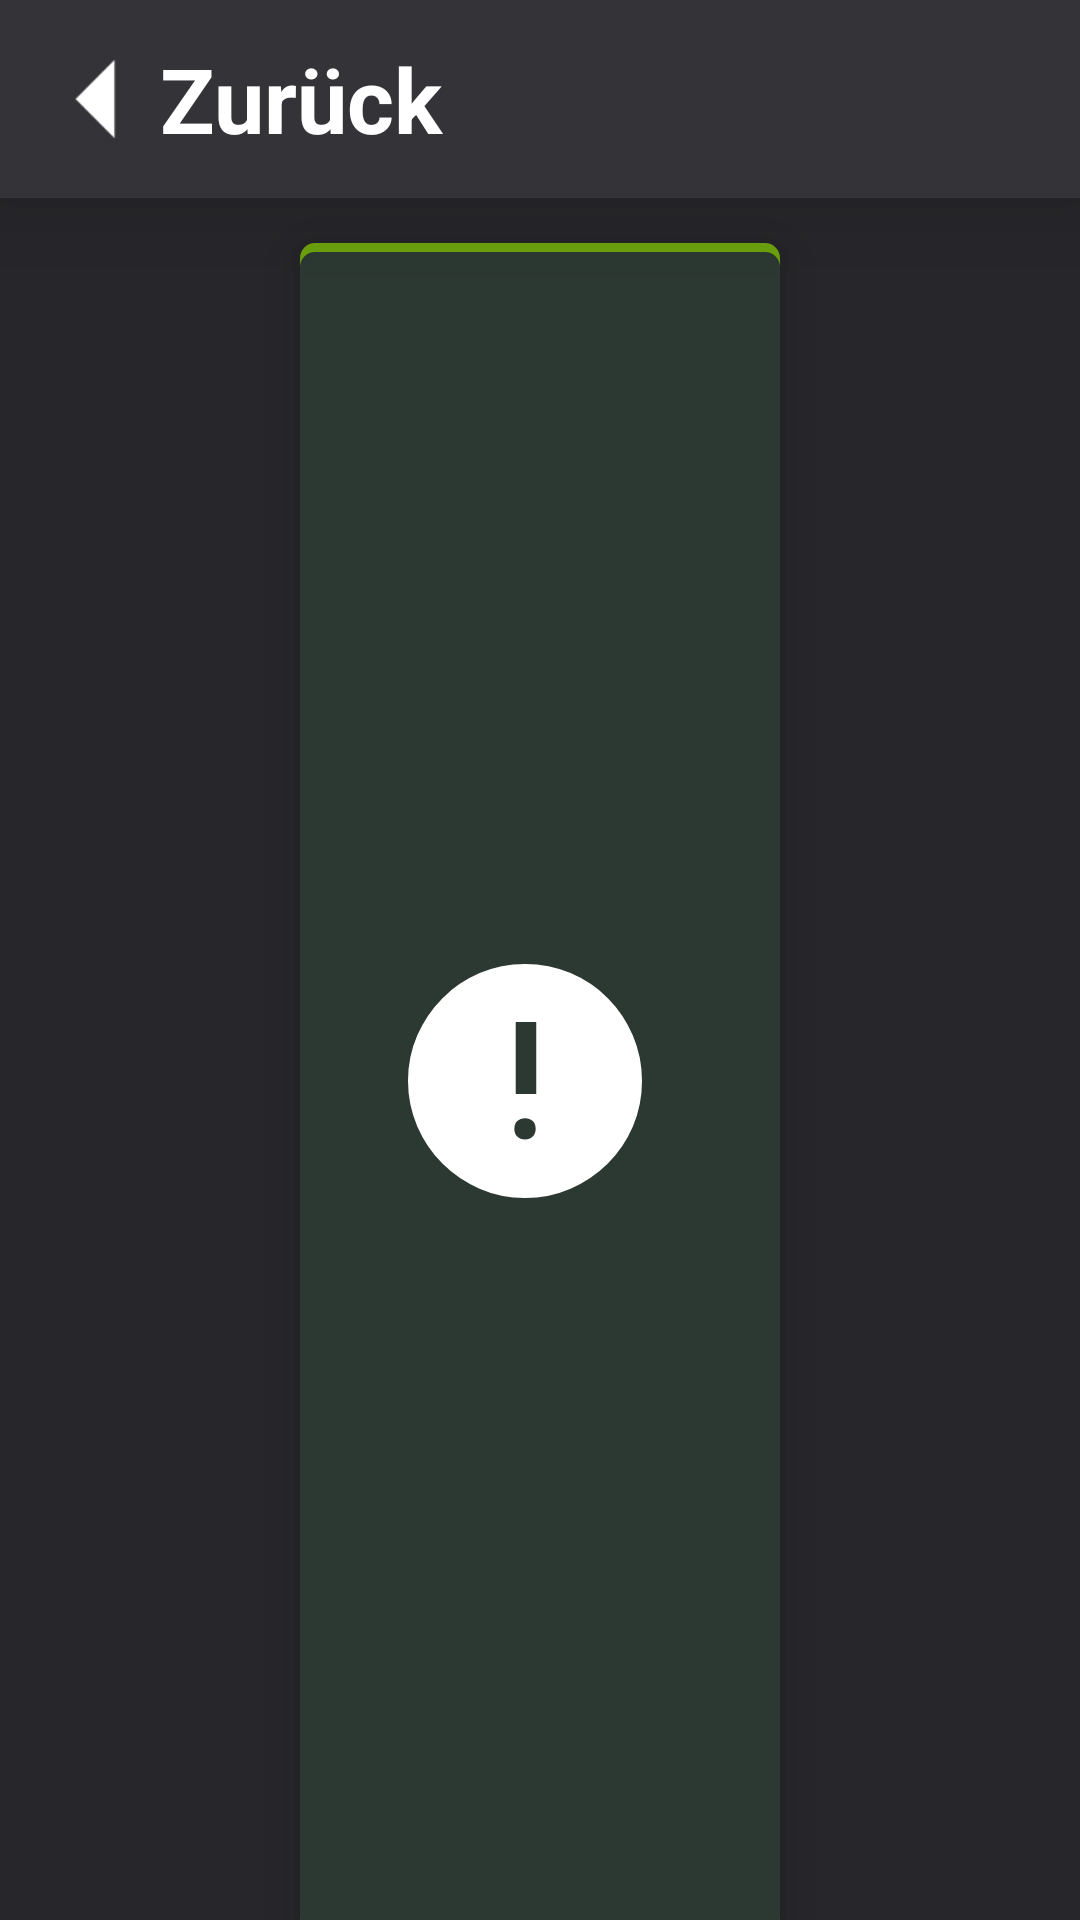

Where to tap for icons on this 1080x1920 app screen, as point (x, y):
error: point (525, 1081)
